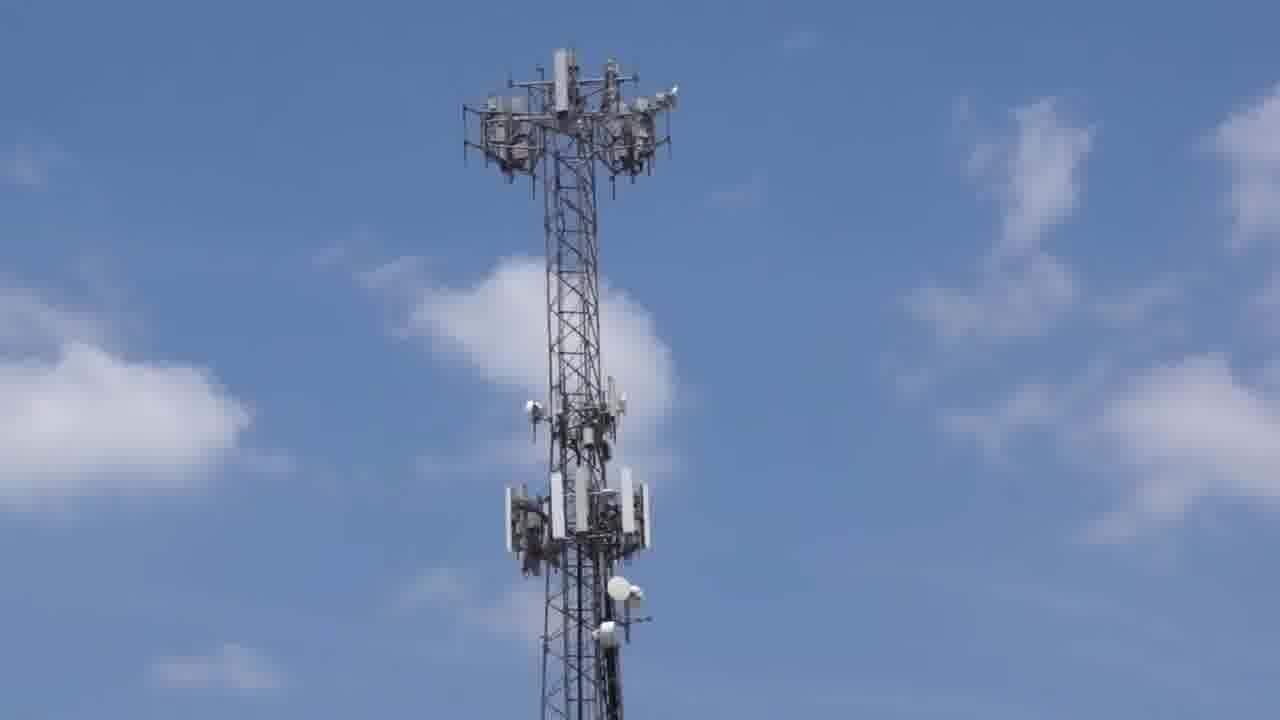Microwave Antenna: (657, 85, 690, 118), (595, 615, 623, 652), (515, 393, 546, 426), (610, 571, 637, 603), (624, 585, 653, 612), (615, 389, 639, 420)
antenna: (545, 40, 580, 118), (616, 467, 646, 546), (568, 461, 601, 532), (541, 472, 570, 551), (499, 485, 517, 550)
